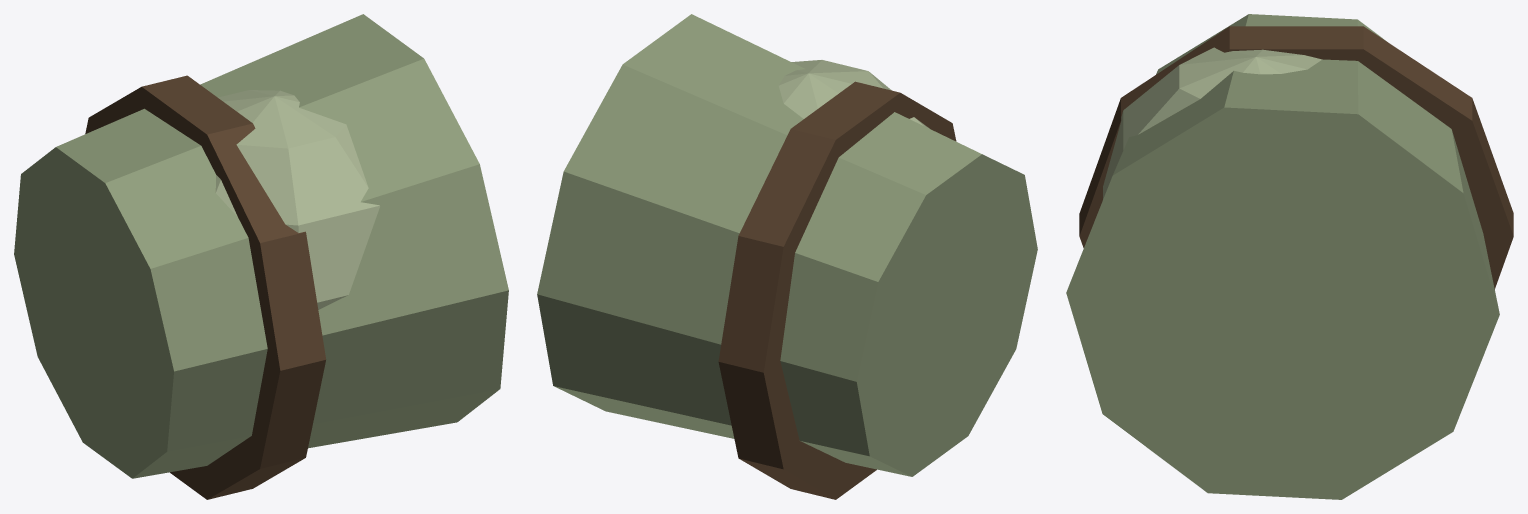
The model's file is stonebrow_arm_r.glb.
3 renders of one model, left to right at view 1: azimuth 30°, elevation 25°; view 2: azimuth 150°, elevation 25°; view 3: azimuth 270°, elevation 25°, orthographic. The views are drawn at different scales.
Parts seen in each view (by area): view 1: stonebrow_arm_r; view 2: stonebrow_arm_r; view 3: stonebrow_arm_r.
Boxes of the visible parts, x1,y1,x2,y2 form: stonebrow_arm_r: [14, 14, 508, 499]; stonebrow_arm_r: [537, 14, 1037, 499]; stonebrow_arm_r: [1066, 14, 1513, 499].
Size of the model in its own units: 0.2935 by 0.3256 by 0.3298.
